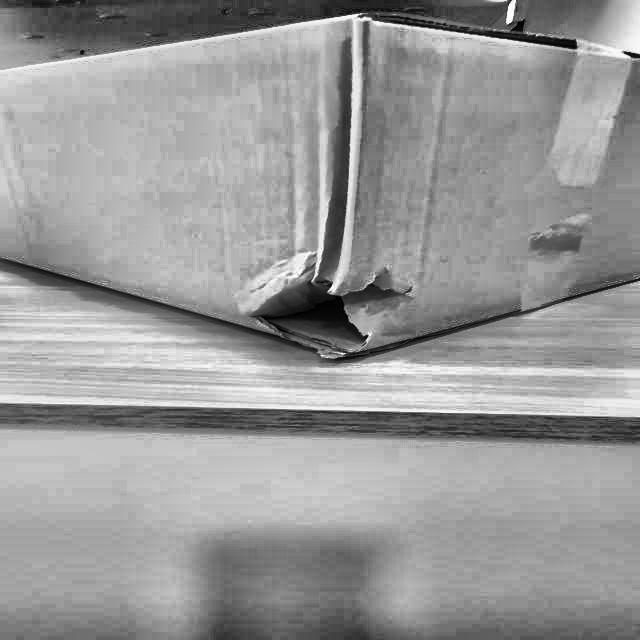box: (0, 2, 639, 380)
hole: (238, 272, 419, 360)
